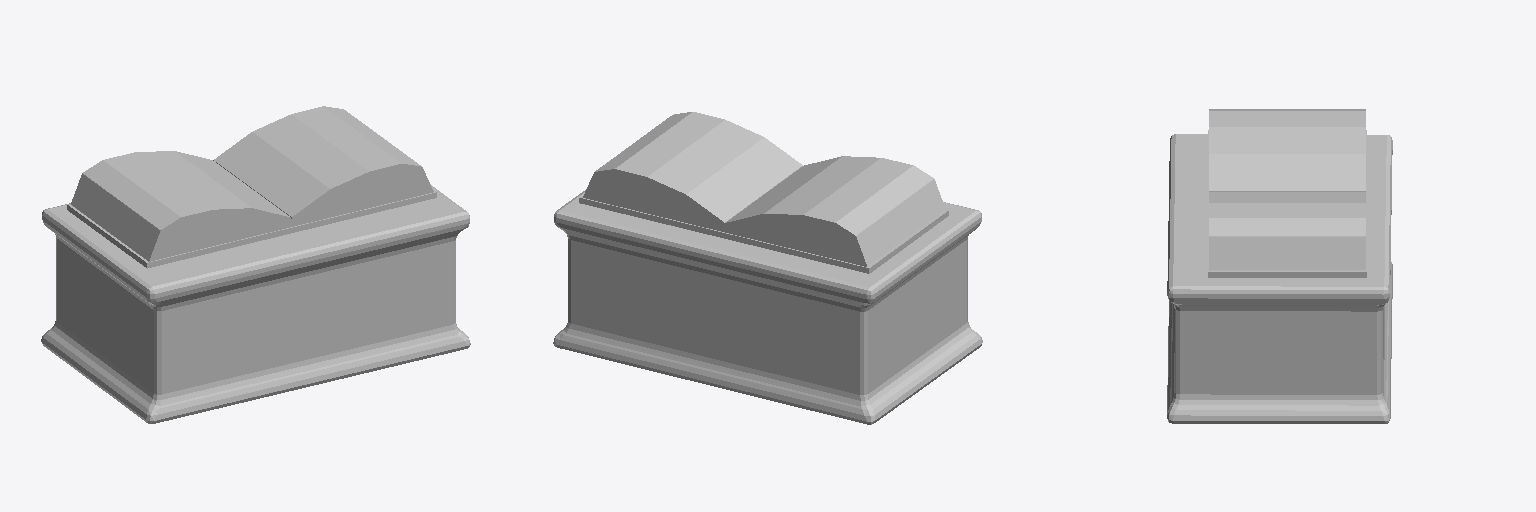
Rendered from book.obj.
The picture shows the model from 3 angles: view 1: azimuth 30°, elevation 25°; view 2: azimuth 150°, elevation 25°; view 3: azimuth 270°, elevation 25°; orthographic projection.
Visible parts, largest first — view 1: Cube_Cube.001; view 2: Cube_Cube.001; view 3: Cube_Cube.001.
Part boxes in pixels (bbox=[...]): Cube_Cube.001: bbox=[41, 106, 470, 423]; Cube_Cube.001: bbox=[553, 112, 982, 424]; Cube_Cube.001: bbox=[1167, 109, 1392, 423].
Bounding box in the file's own units: 3.61 × 1.95 × 2.18.